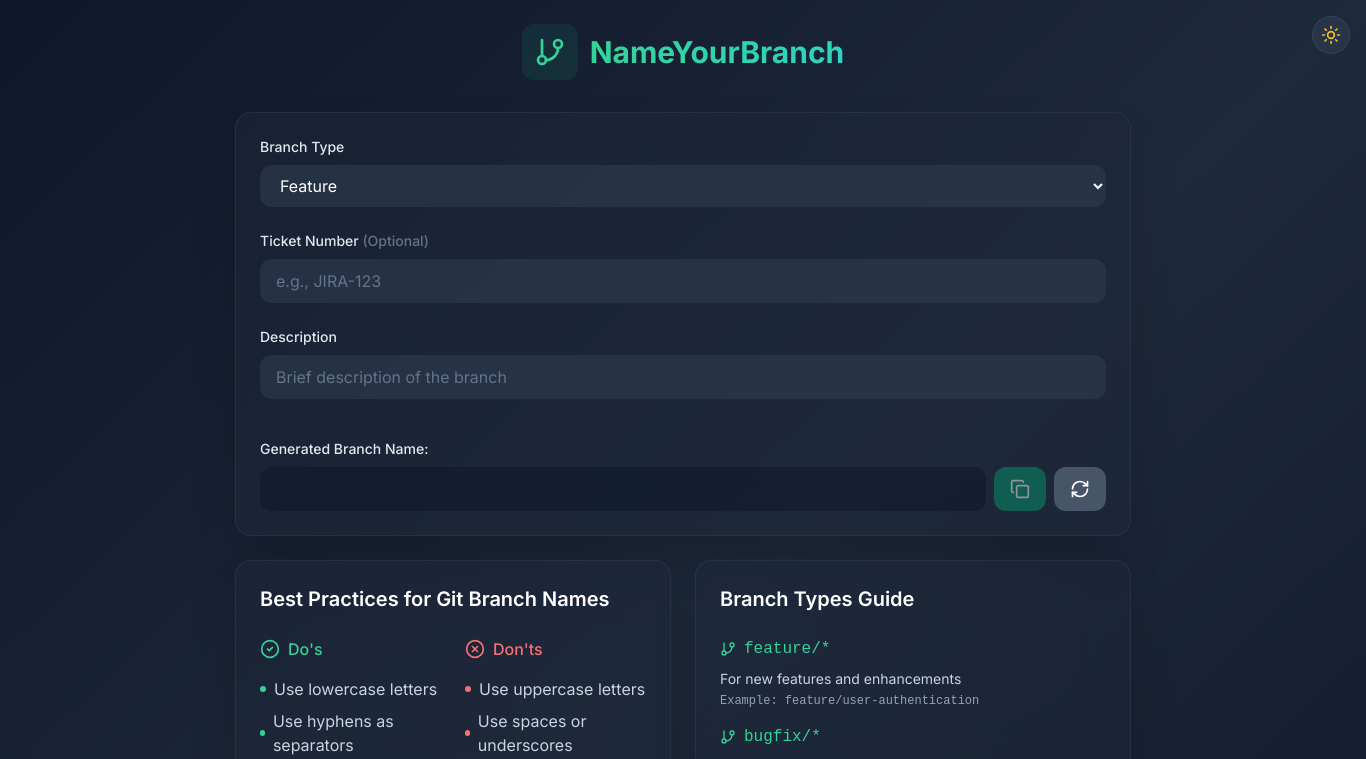
Branch Name Generator › resets form correctly
In the field with placeholder "Brief description of the branch": (683, 377) [260, 355, 1106, 399], type "test feature"
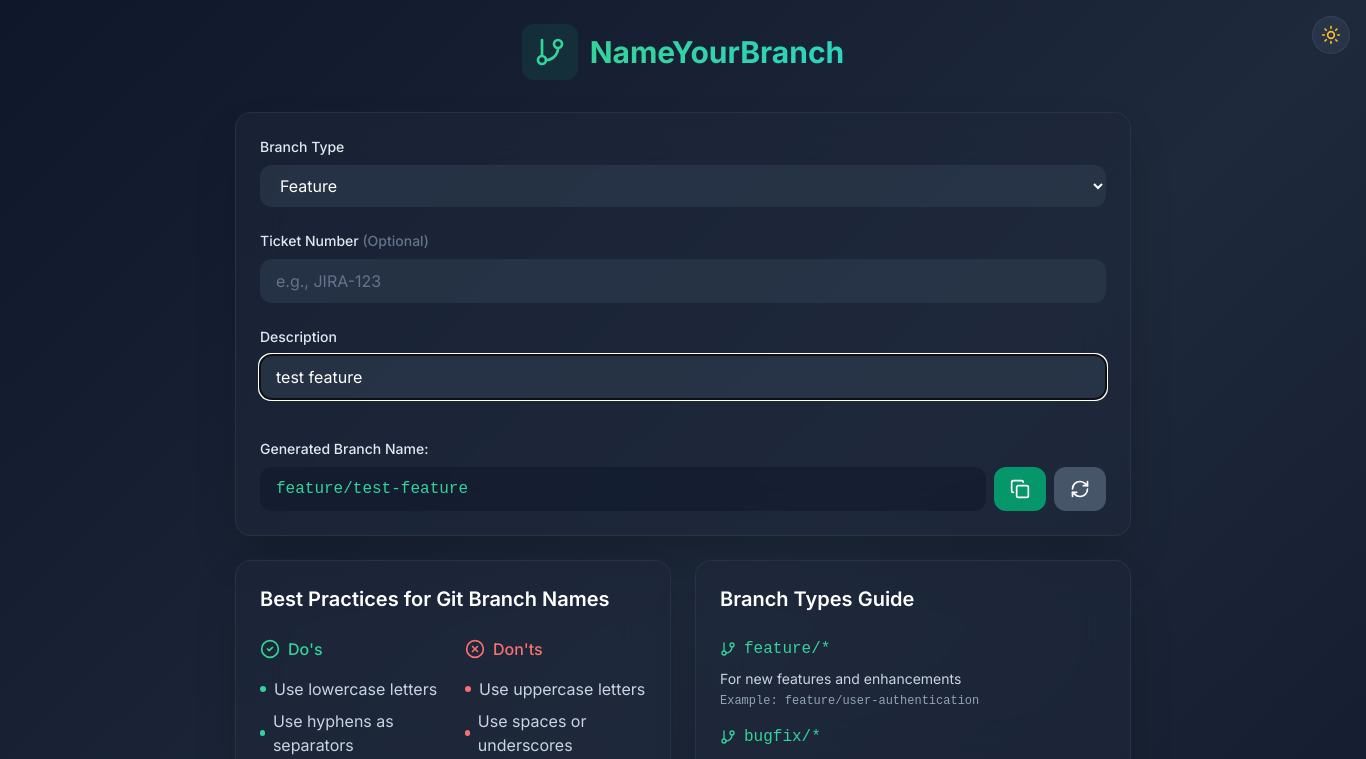
In the field with placeholder "e.g., JIRA-123": (683, 281) [260, 259, 1106, 303], type "JIRA-789"
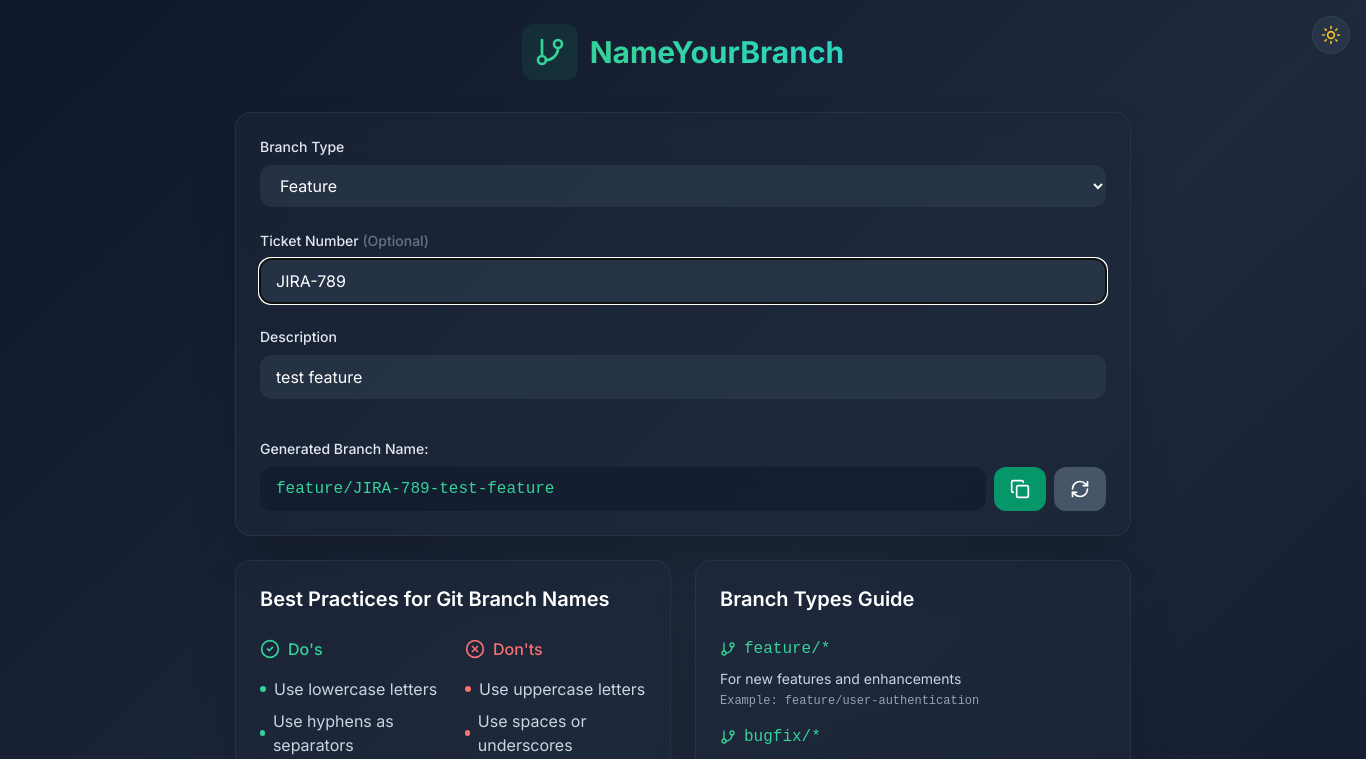
Click the button titled "Reset form": (1080, 489) [1054, 467, 1106, 511]
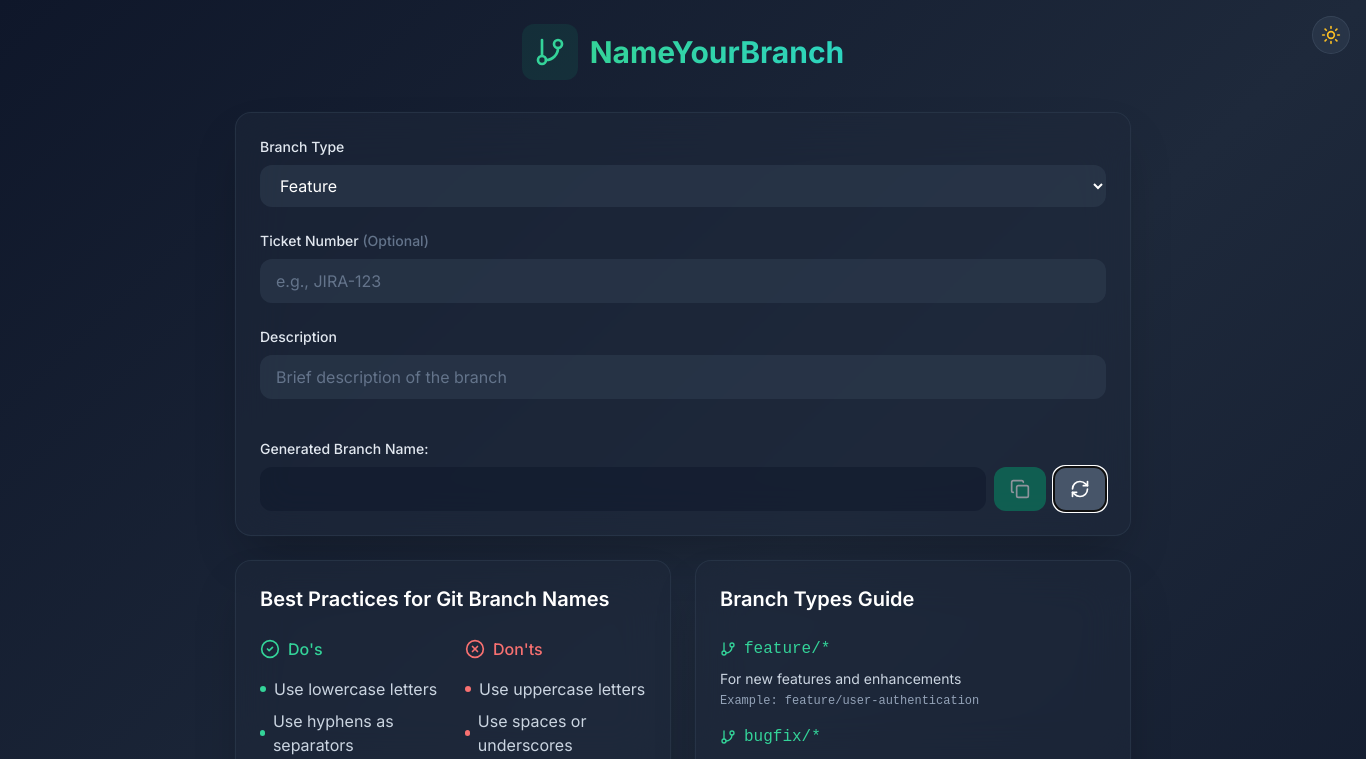
Expected: the dropdown shows "Feature", [260, 165, 1106, 207]
Now the field with placeholder "Brief description of the branch" is empty, box [260, 355, 1106, 399]
Now the field with placeholder "e.g., JIRA-123" is empty, box [260, 259, 1106, 303]
